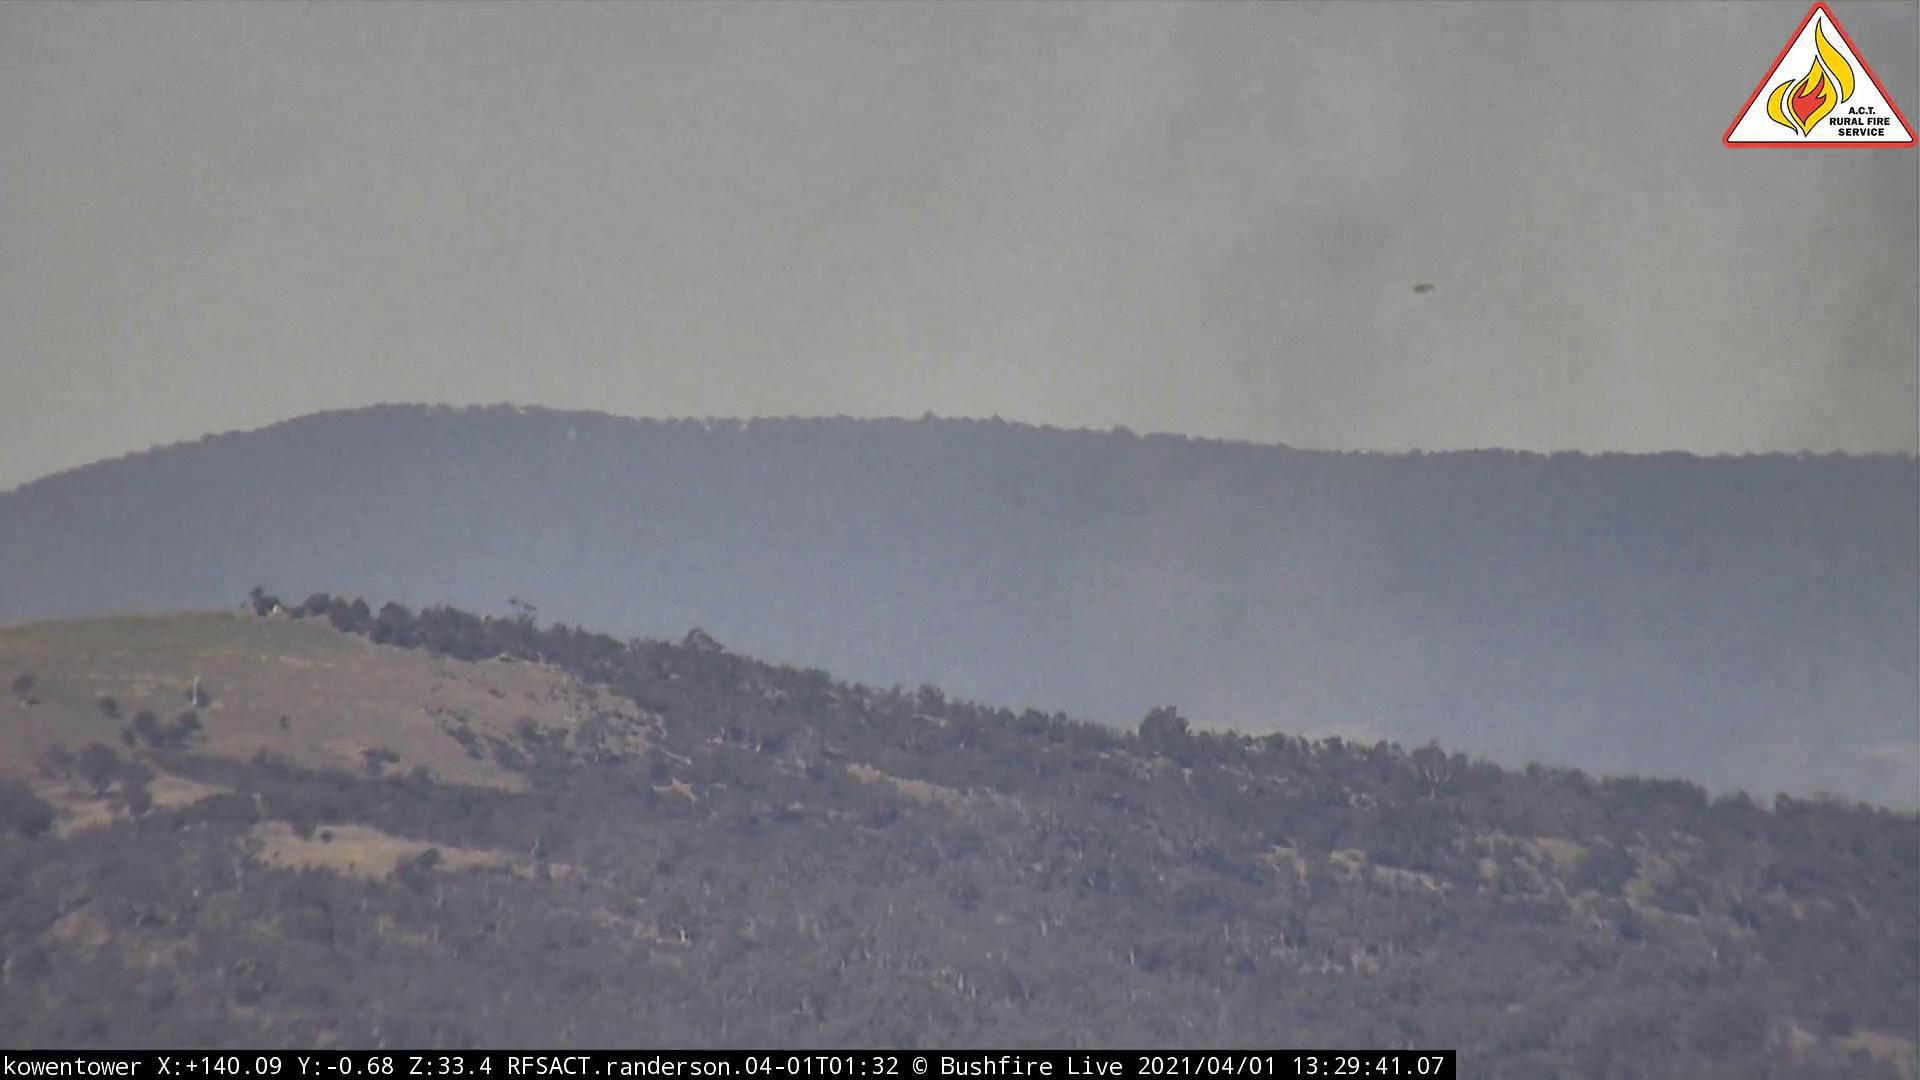Smoke: (1033, 3, 1920, 760)
